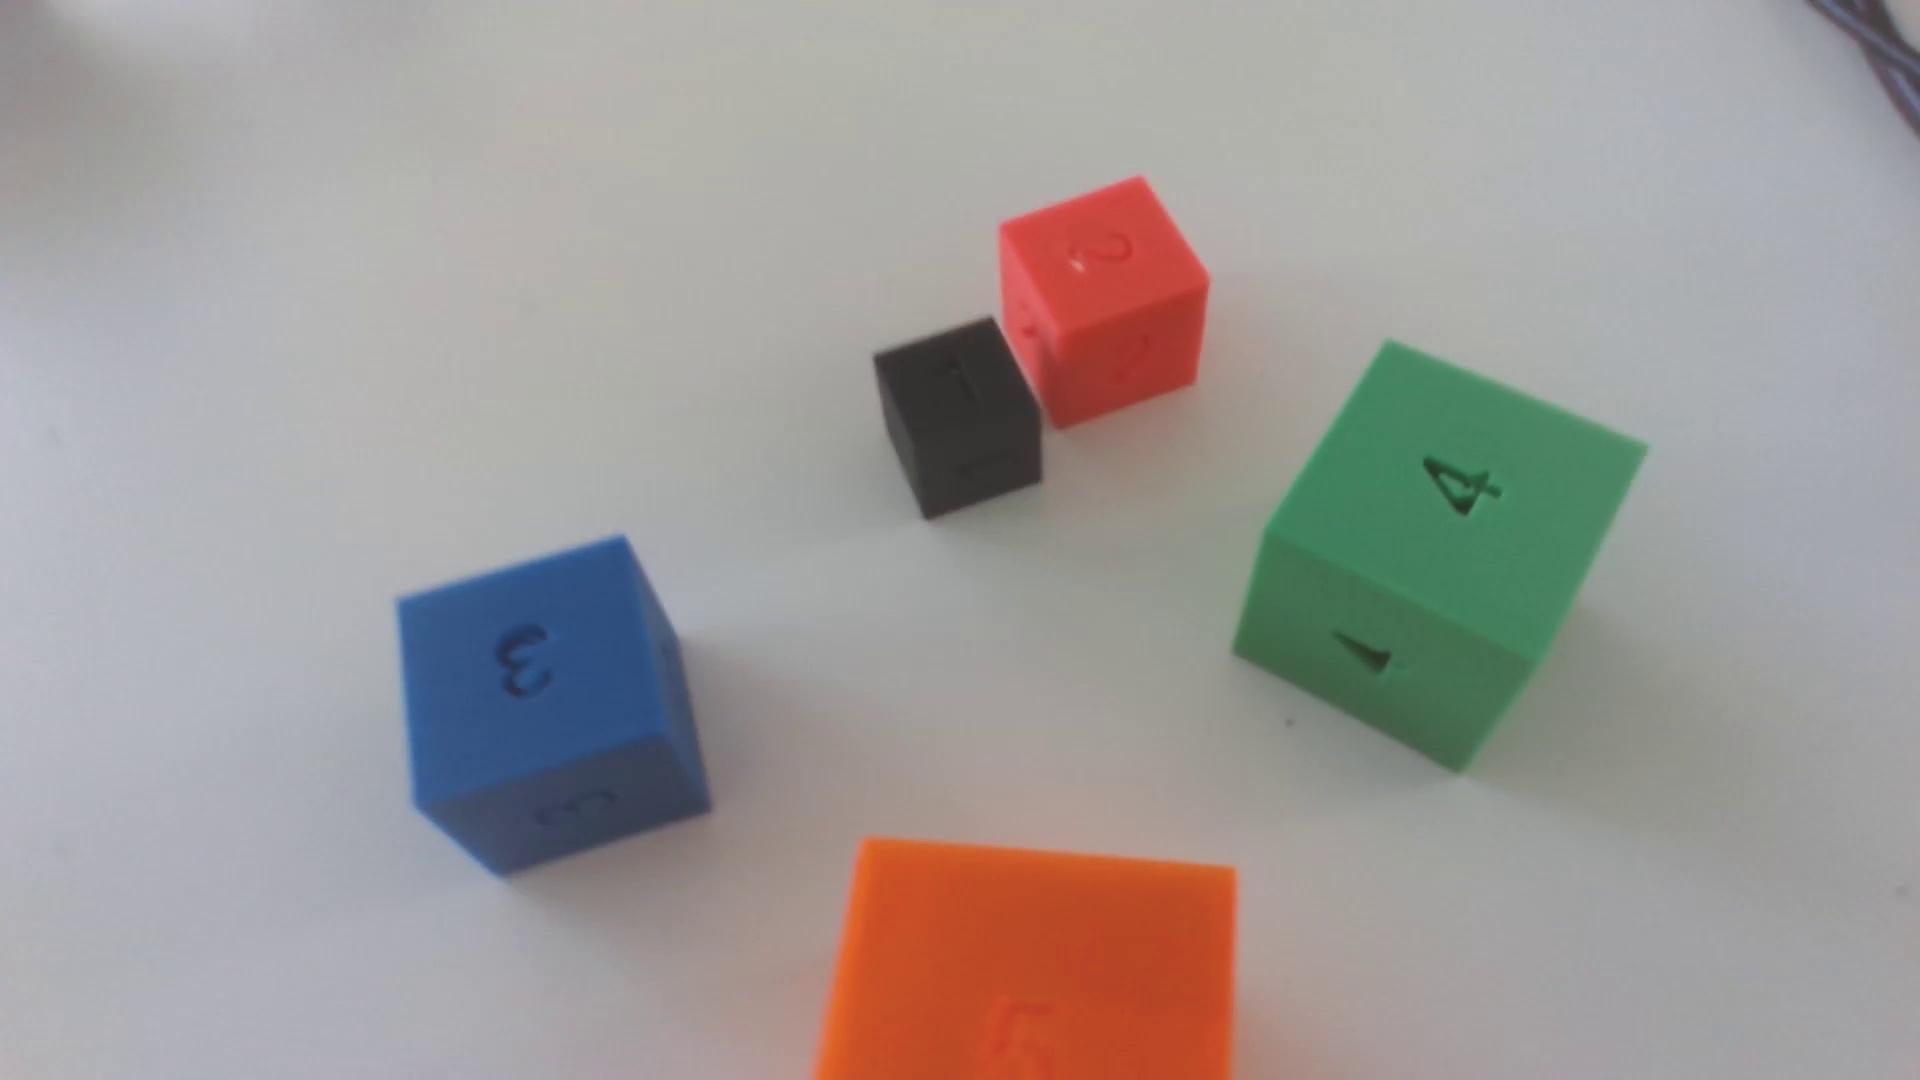black: (873, 318, 1044, 521)
blue: (397, 537, 712, 878)
green: (1233, 343, 1644, 771)
orange: (814, 839, 1236, 1080)
red: (997, 179, 1209, 430)
